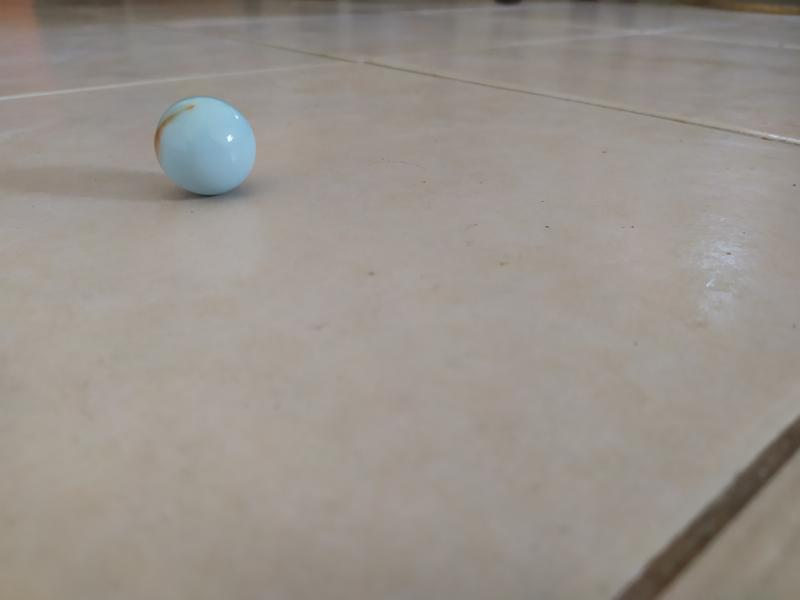Warning: (152, 93, 260, 198)
